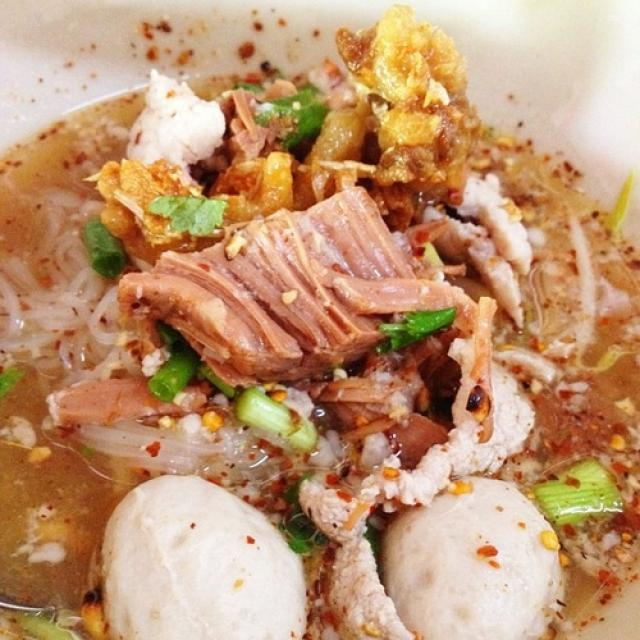猪肉菜式: (8, 18, 623, 621)
